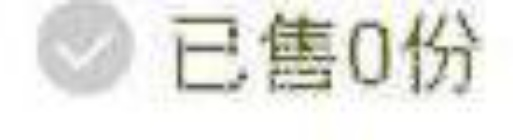CheckBox: (1, 1, 512, 139)
